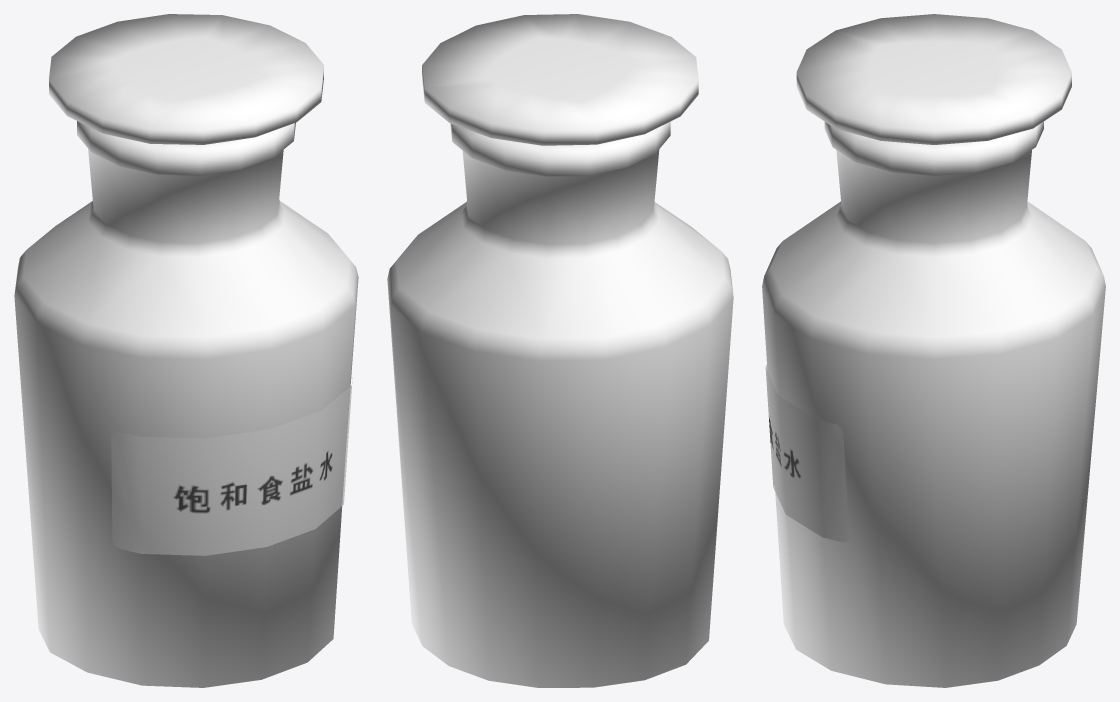
Rendered from 1饱和食盐水.glb.
The picture shows the model from 3 angles, left to right: view 1: azimuth 30°, elevation 25°; view 2: azimuth 150°, elevation 25°; view 3: azimuth 270°, elevation 25°; orthographic projection.
Visible parts, largest first — view 1: 广口瓶透明, 广口瓶透明.001, 饱和食盐水; view 2: 广口瓶透明, 广口瓶透明.001; view 3: 广口瓶透明, 广口瓶透明.001, 饱和食盐水.
Part boxes in pixels (left/top/right/bottom): 广口瓶透明: left=14, top=121, right=358, bottom=687; 广口瓶透明.001: left=49, top=14, right=323, bottom=144; 饱和食盐水: left=111, top=378, right=352, bottom=555; 广口瓶透明: left=387, top=121, right=733, bottom=687; 广口瓶透明.001: left=422, top=14, right=698, bottom=145; 广口瓶透明: left=762, top=121, right=1105, bottom=687; 广口瓶透明.001: left=796, top=14, right=1071, bottom=144; 饱和食盐水: left=765, top=365, right=849, bottom=542.
Size of the model in its own units: 0.1368 by 0.2429 by 0.1363.
Materials: 3 (3 with a texture image).
